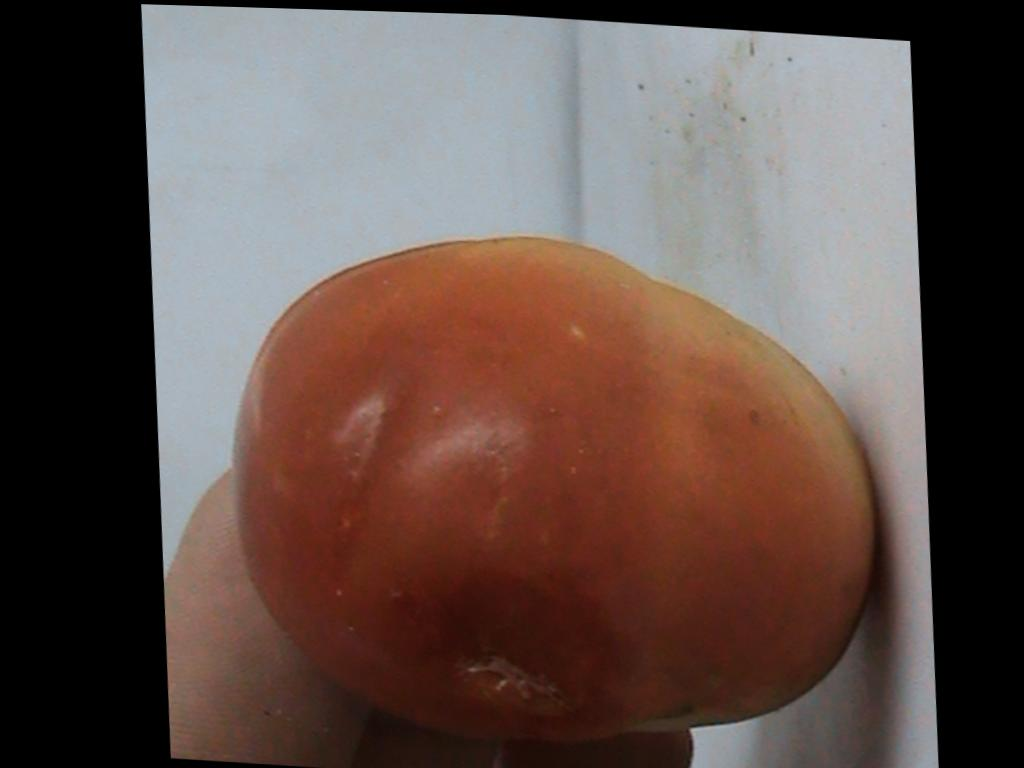bruise_discoloration: (400, 568, 609, 719)
surface_damage: (464, 656, 565, 703)
tomato: (234, 238, 872, 737)
